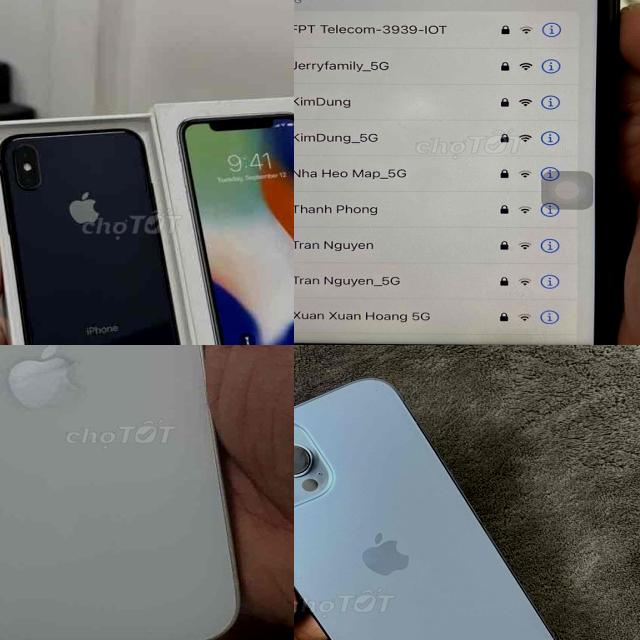gen_12_13: (294, 372, 566, 640)
gen_14: (0, 345, 247, 640)
gen_7_8: (294, 0, 629, 345)
gen_x_xs: (0, 112, 196, 345)
